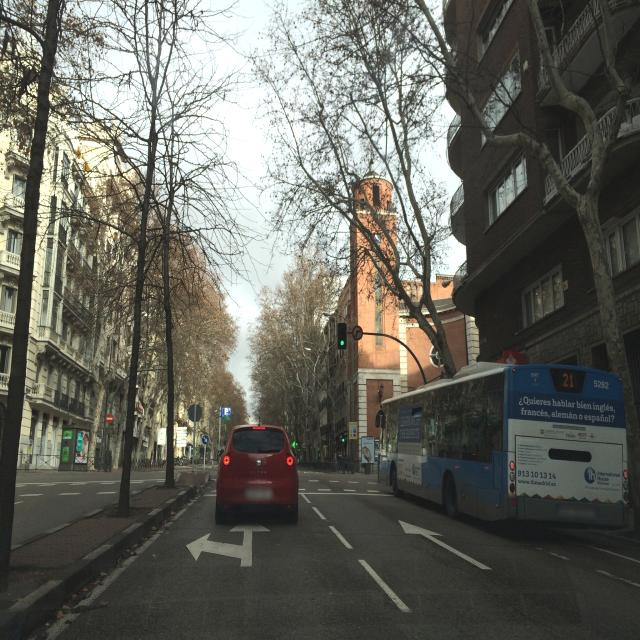car: (215, 423, 300, 524)
